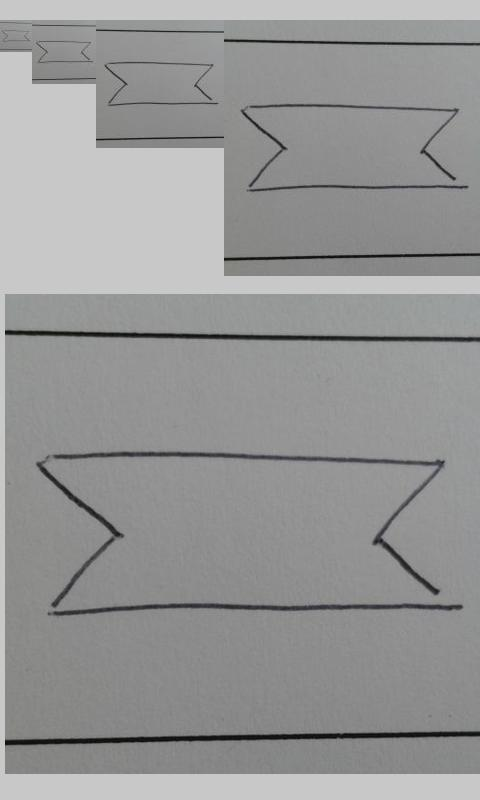edit_text: (30, 448, 456, 616), (240, 102, 465, 192), (104, 61, 216, 106), (35, 40, 93, 63), (1, 29, 30, 42)
